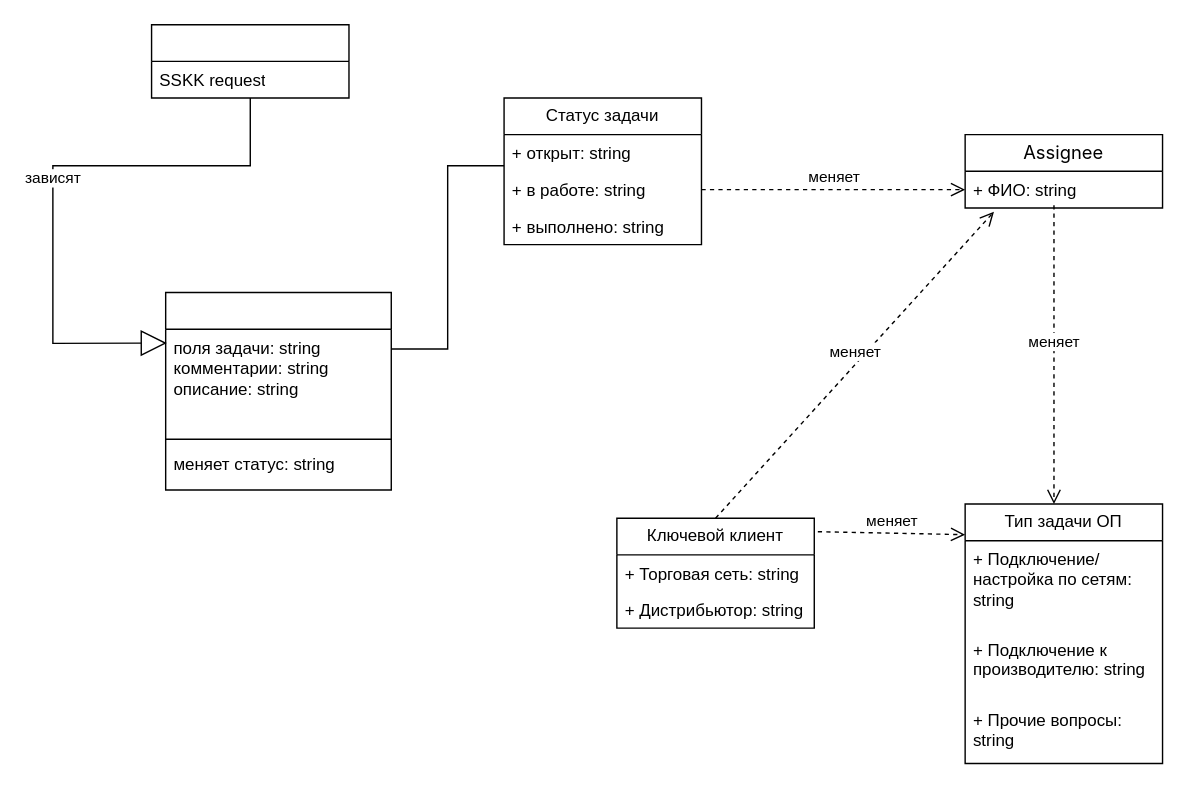
This 1187x792 diagram has some shape labels left out. Here are the shapes that lost their labels. From the top down, the box of each, then its label:
(150, 23, 349, 98): Проект
(164, 291, 391, 490): Задача
